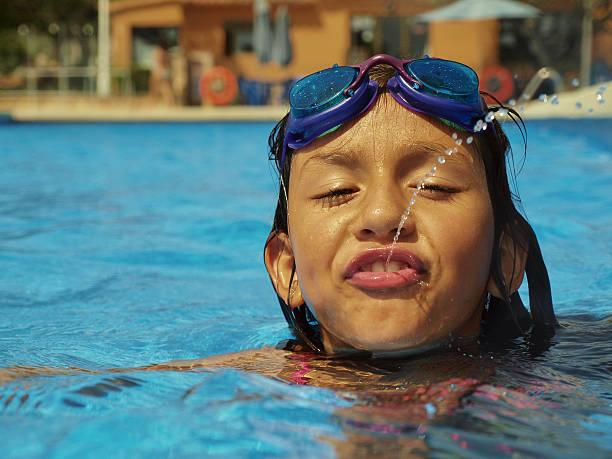Spitting: (284, 69, 495, 338)
